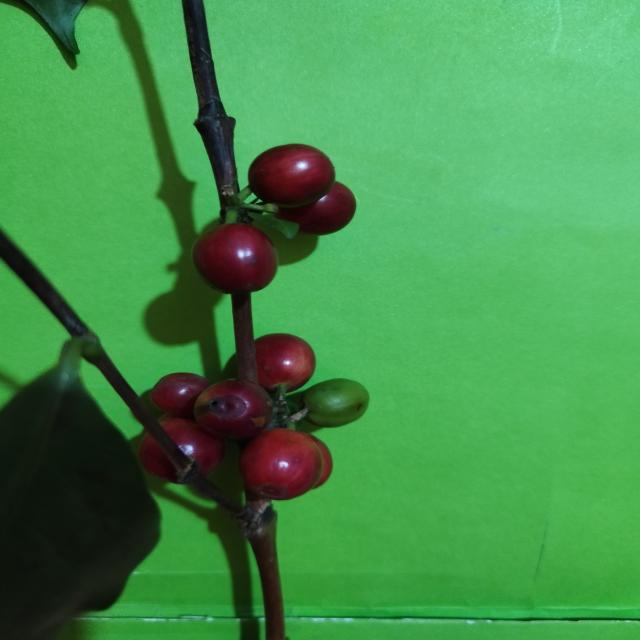Infectado: (192, 380, 274, 443)
Sano: (192, 224, 279, 295), (240, 428, 323, 501), (248, 144, 335, 206), (276, 182, 356, 236), (255, 333, 315, 394), (303, 379, 369, 428), (151, 373, 210, 418)
